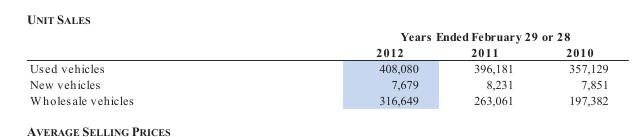table: (29, 29, 607, 106)
table column: (29, 29, 254, 106), (254, 29, 444, 106), (444, 29, 538, 106), (538, 29, 607, 106)
table column header: (29, 29, 607, 59)
table row: (29, 59, 607, 75), (29, 75, 607, 91), (29, 29, 607, 44), (29, 44, 607, 59), (29, 91, 607, 106)
table spanning cell: (254, 29, 607, 44)
